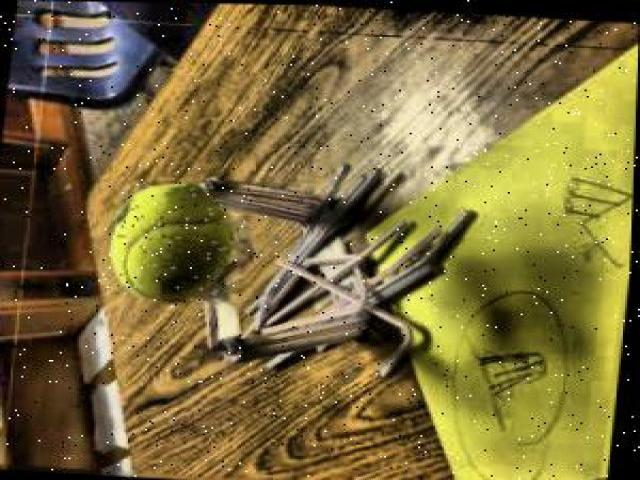tennis-ball: (108, 184, 233, 304)
